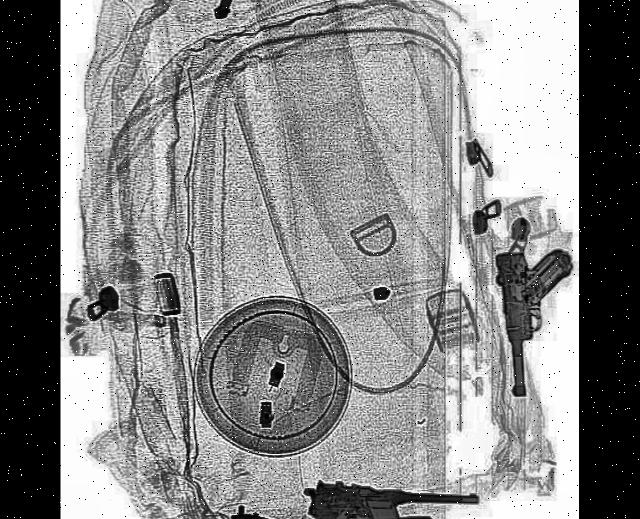Gun: (494, 238, 578, 396), (300, 476, 478, 519)
